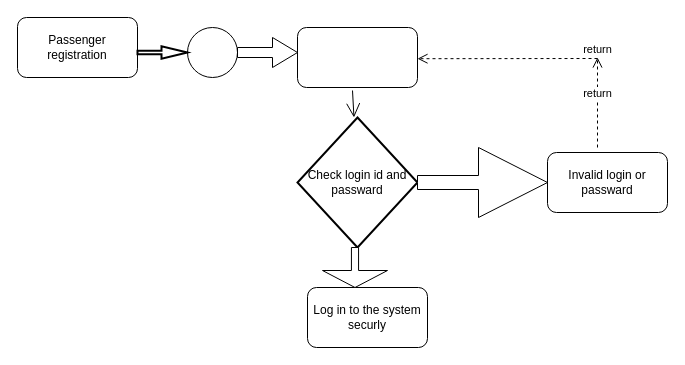
This 685x365 diagram has some shape labels left out. Each missing label, with the centre of its shape:
"Admin log in id and password" belongs at point 357,57.
"Start" belongs at point 212,52.
